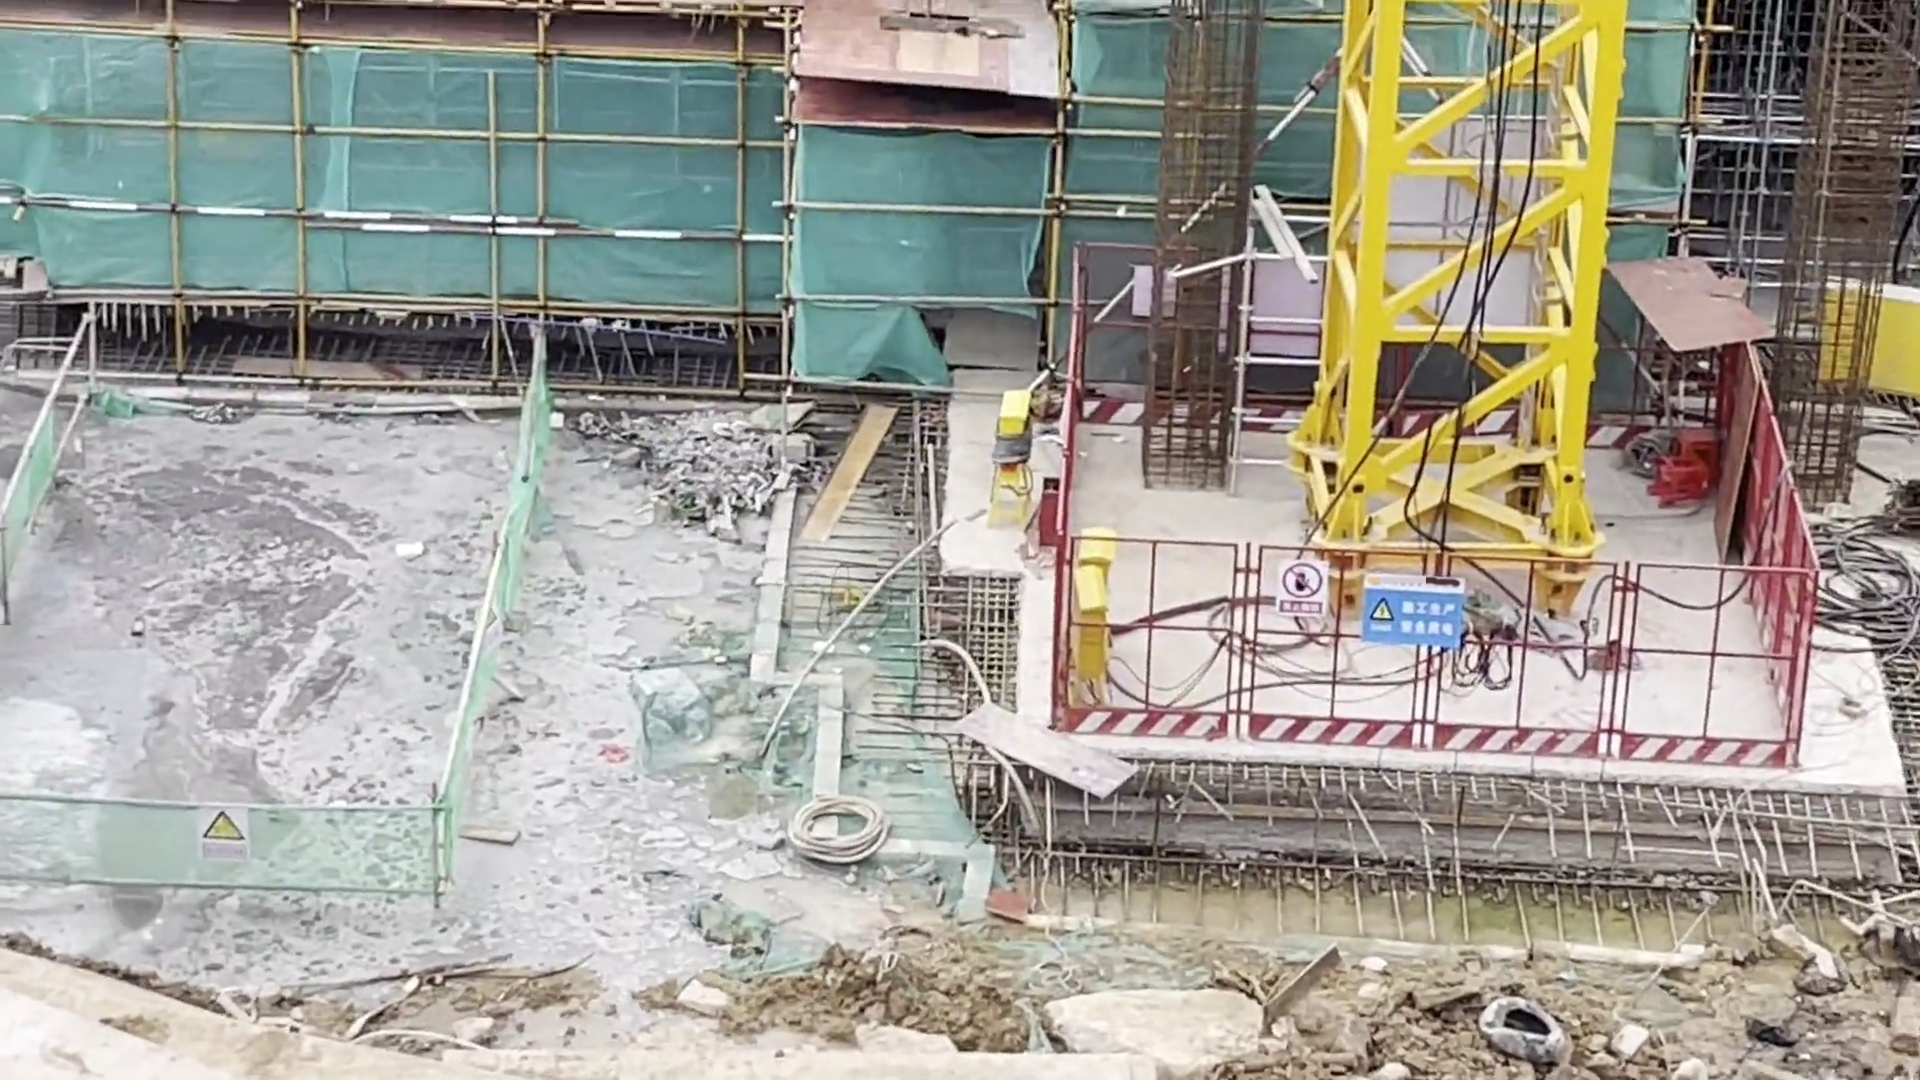ebox: (1822, 272, 1920, 411), (1069, 527, 1114, 703), (996, 392, 1031, 527)
fence: (1073, 534, 1808, 775), (1749, 401, 1812, 682)
slogan: (1358, 574, 1460, 654), (1276, 560, 1335, 617), (195, 807, 249, 862)
